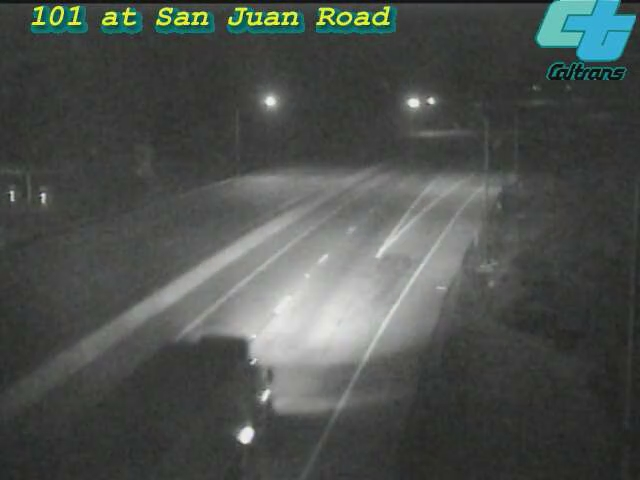vehicle: (131, 365, 241, 475)
